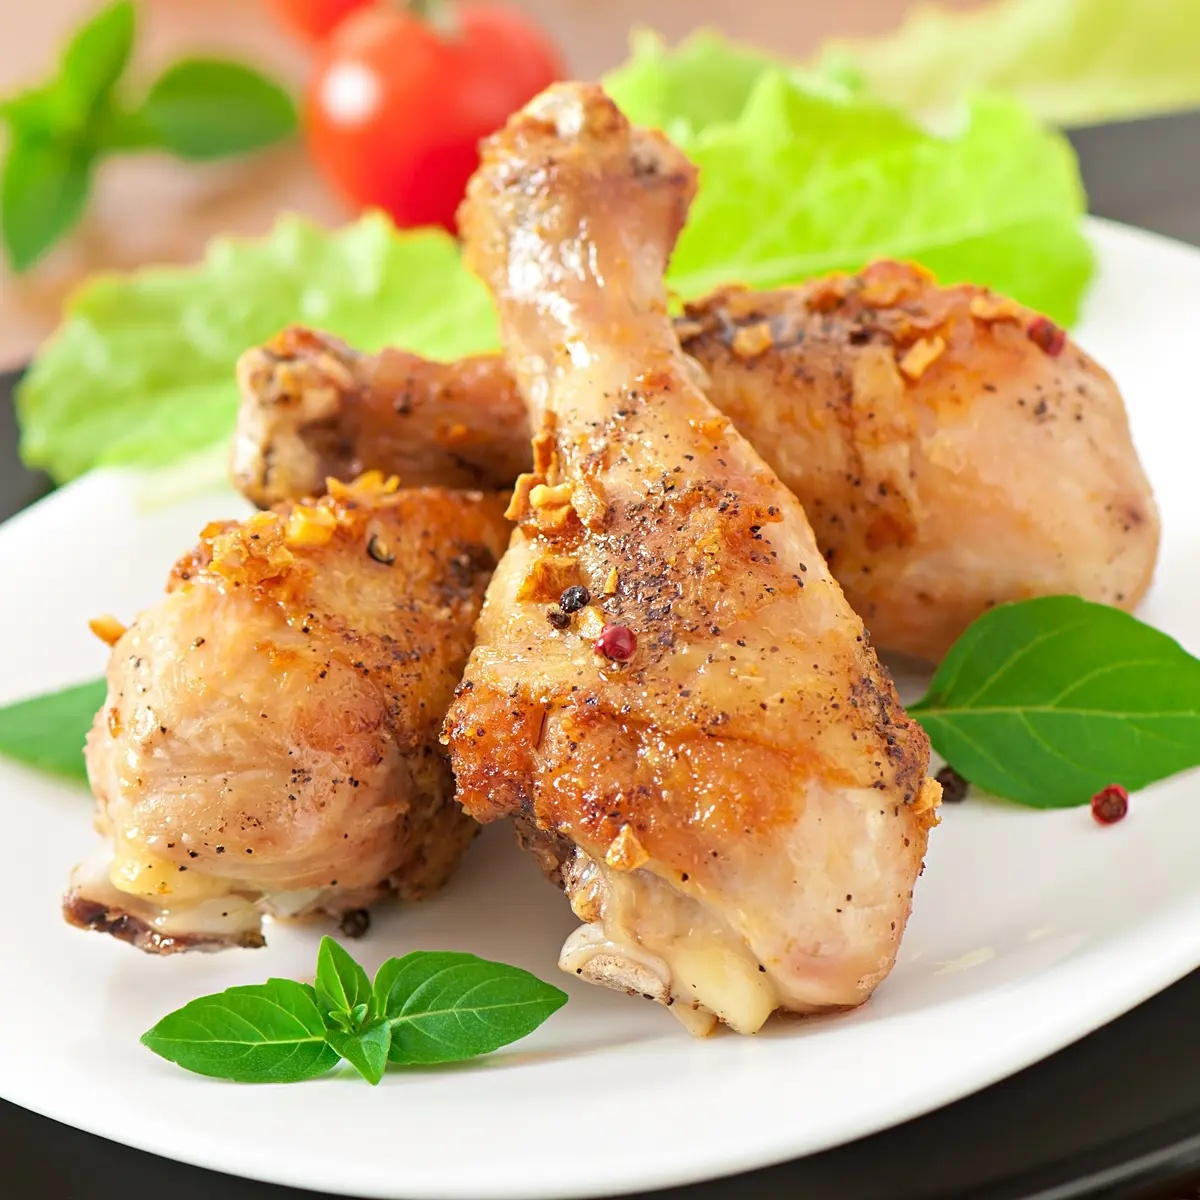ayam_goreng: (448, 60, 926, 1038)
